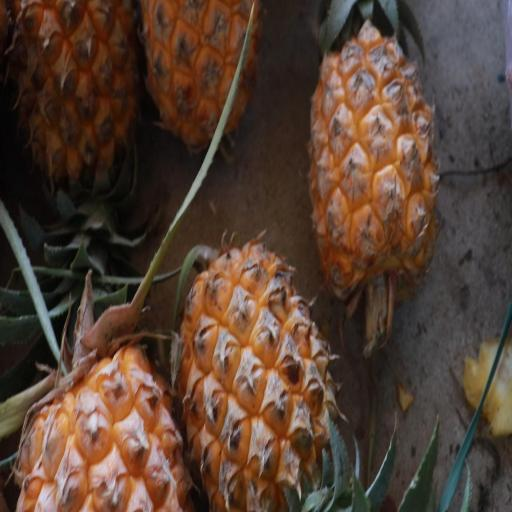Pineapple - v8 v1: (175, 223, 346, 512), (5, 279, 198, 512), (304, 0, 445, 310), (8, 0, 143, 220), (137, 0, 265, 149)
